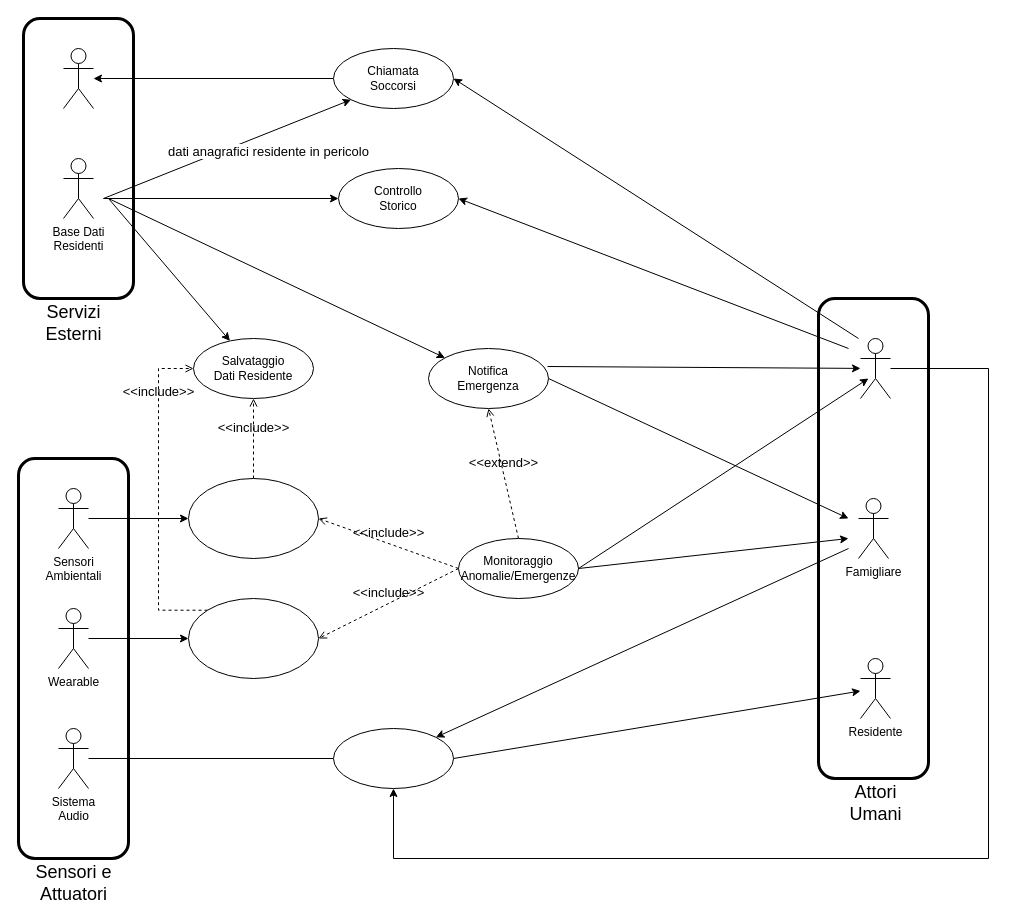
This 1014x922 diagram has some shape labels left out. Each missing label, with the centre of its shape:
Comunica con Residente: (393,758)
Operatore Sanitario: (875,368)
Rileva Parametri Ambientali: (253,518)
Rileva Parametri Residente: (253,638)
Servizio Pronto Soccorso: (78,78)
